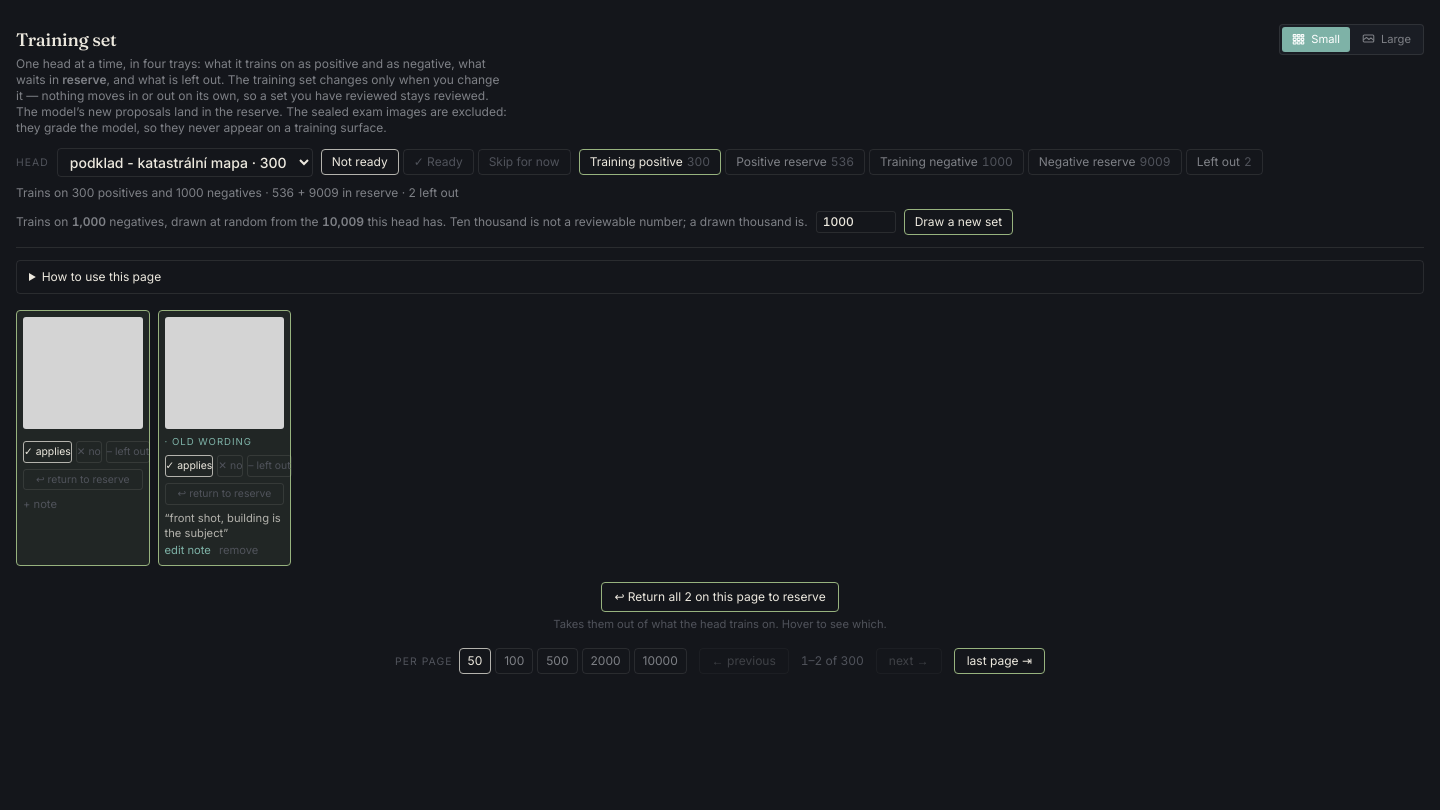
it: <NewDedupTrainingSet> changing a mark › a failed mark does not undo a move made on another tile while it was in flight
The image size is (1440, 810).
What coordinates should you click on to do the following:
click the button with aria-label "negative 11"
I would click on:
 (89, 452)
Its box is [76,441,102,462].
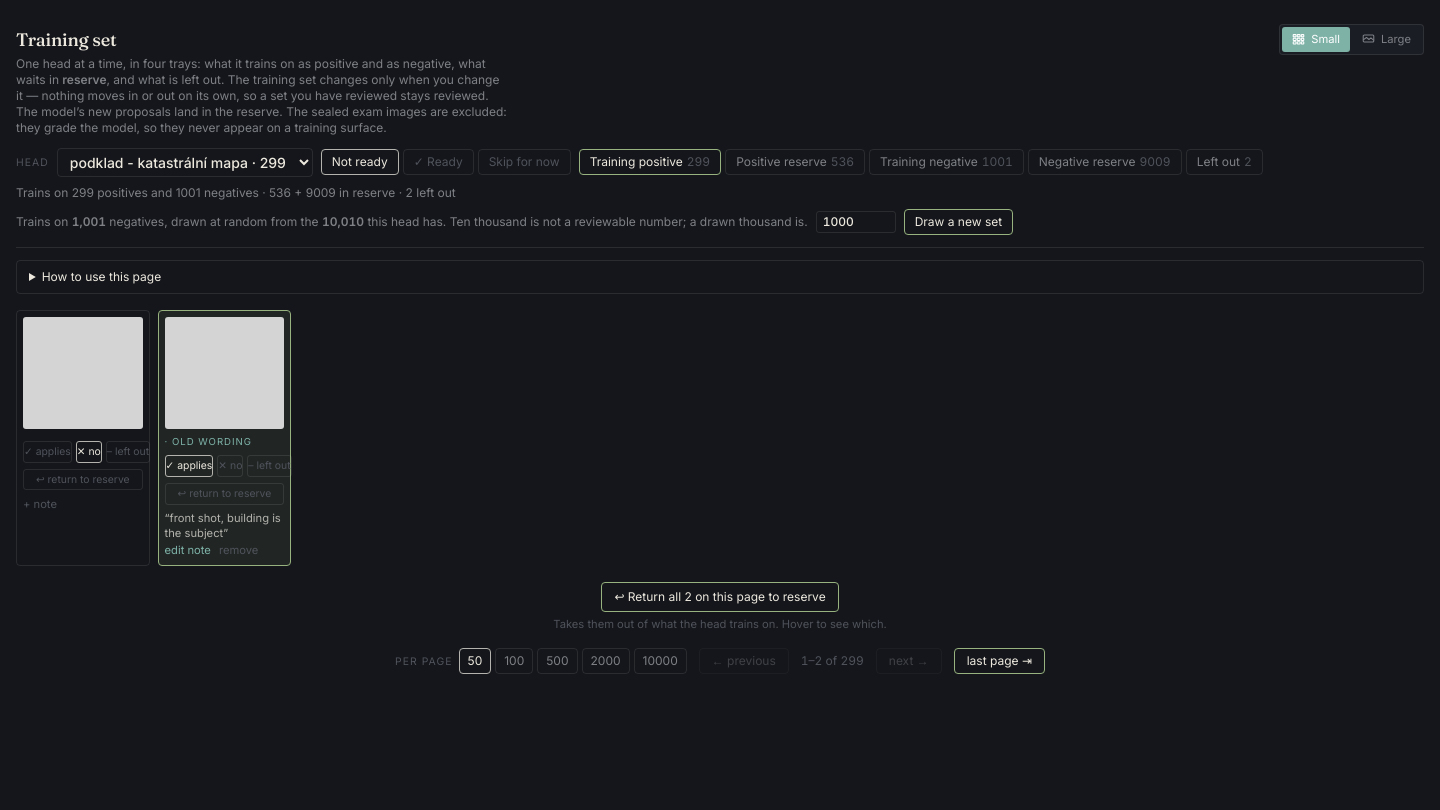
What coordinates should you click on to do the following:
click the button with test id "move-12"
I would click on:
 (224, 494)
Its box is [165,483,284,504].
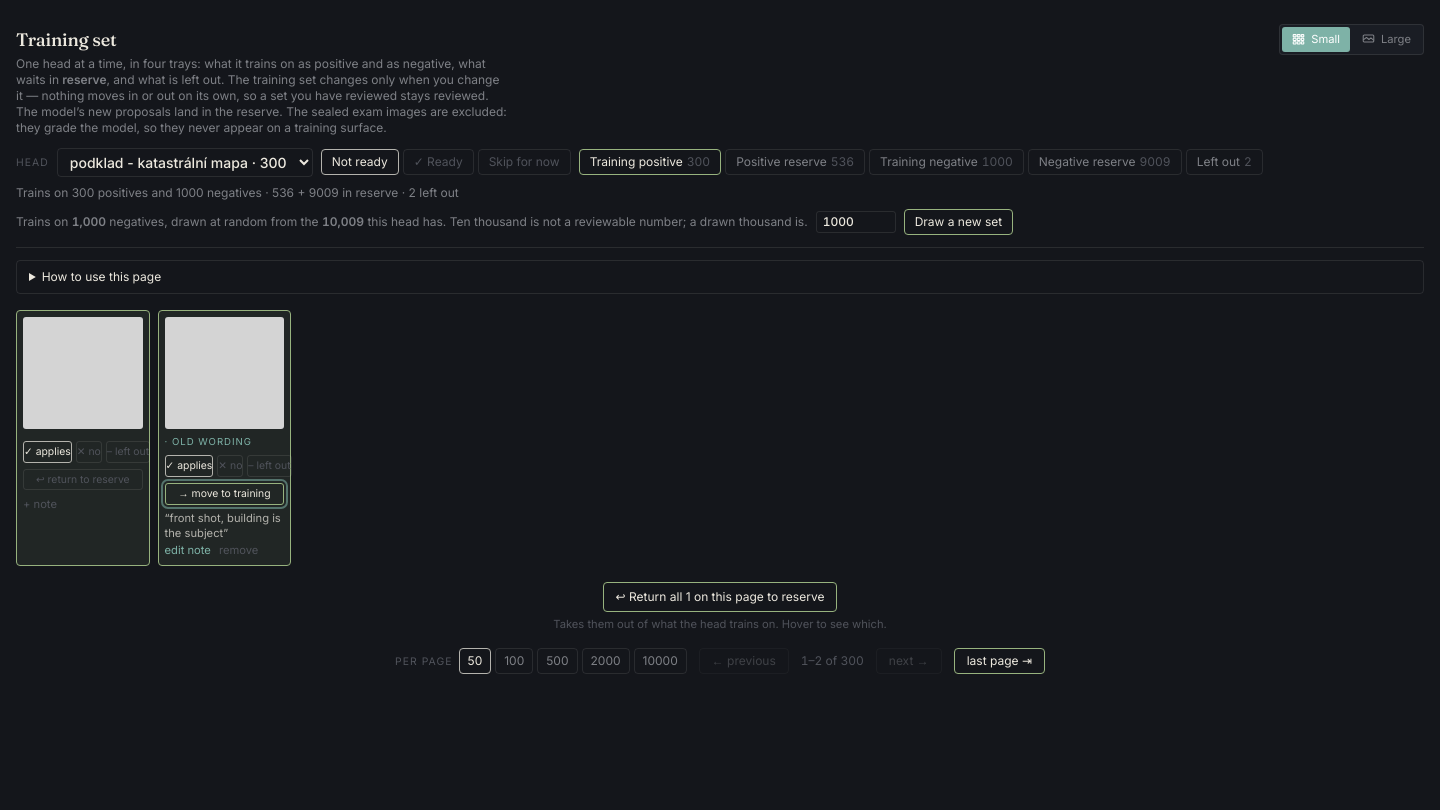
Result: the button with test id "move-12" shows "move to training" at [165,483,284,504]
